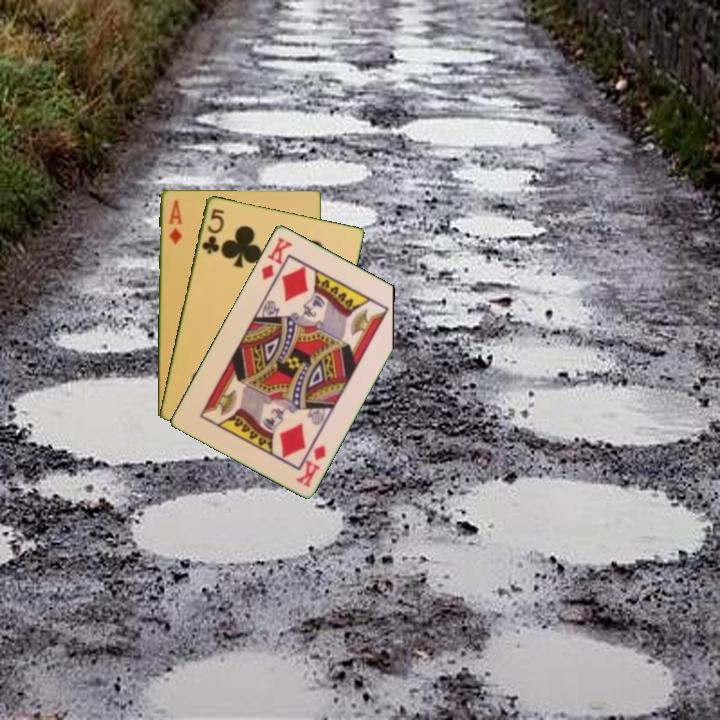5c: (198, 204, 227, 256)
Ad: (164, 196, 185, 246)
Kd: (258, 233, 295, 283), (292, 440, 329, 490)
